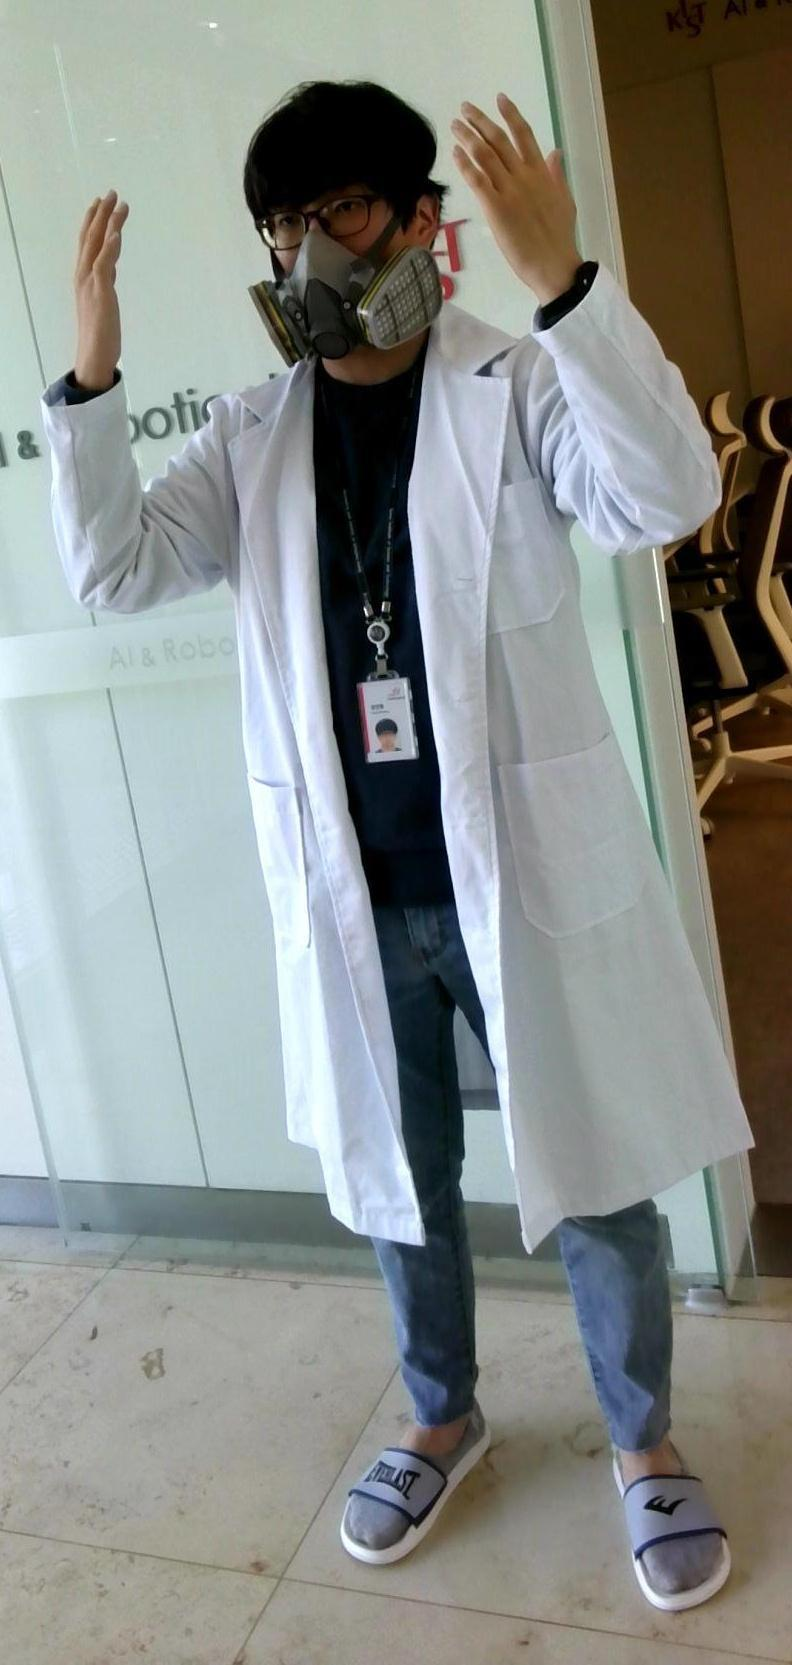lab_coat: (150, 367, 719, 1218)
